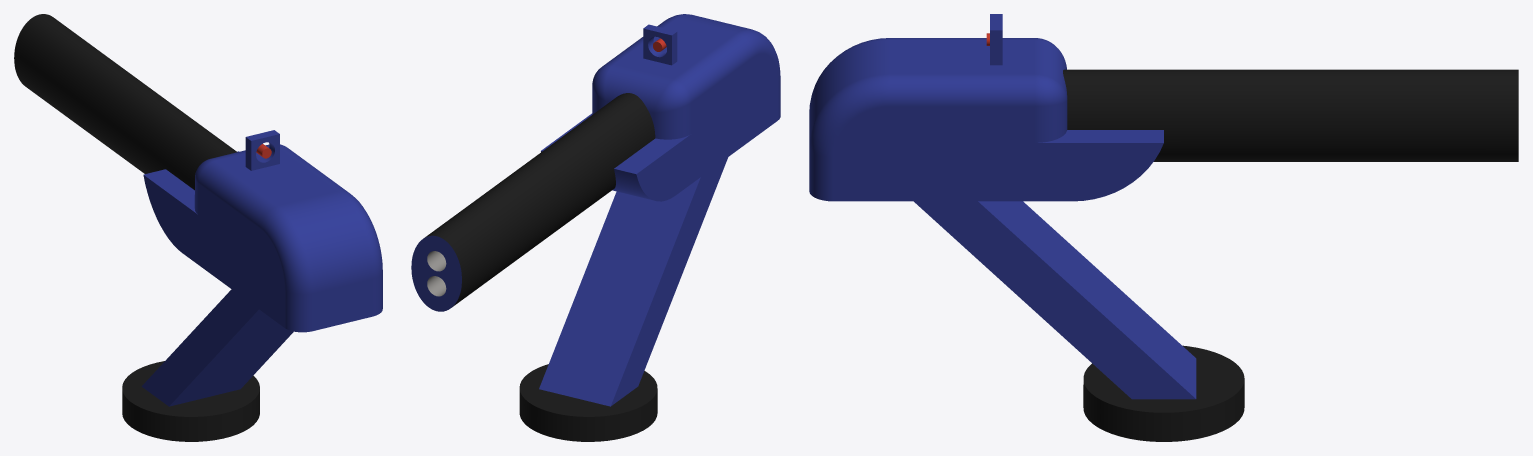
File: turretV1bla4.obj
3 views of the same model, side by side, from view 1: azimuth 30°, elevation 25°; view 2: azimuth 150°, elevation 25°; view 3: azimuth 270°, elevation 25° (orthographic). The views are drawn at different scales.
Visible parts, largest first — view 1: Body1; view 2: Body1; view 3: Body1.
Boxes of the visible parts, x1,y1,x2,y2 form: Body1: [14, 14, 382, 441]; Body1: [411, 14, 780, 441]; Body1: [809, 14, 1518, 441].
Size of the model in its own units: 49.99 by 132 by 220.
